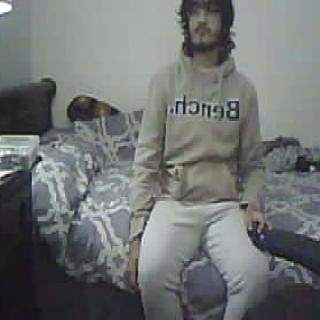White Sweatpants: (136, 195, 263, 320)
Yellow Hoodie: (128, 54, 263, 201)
